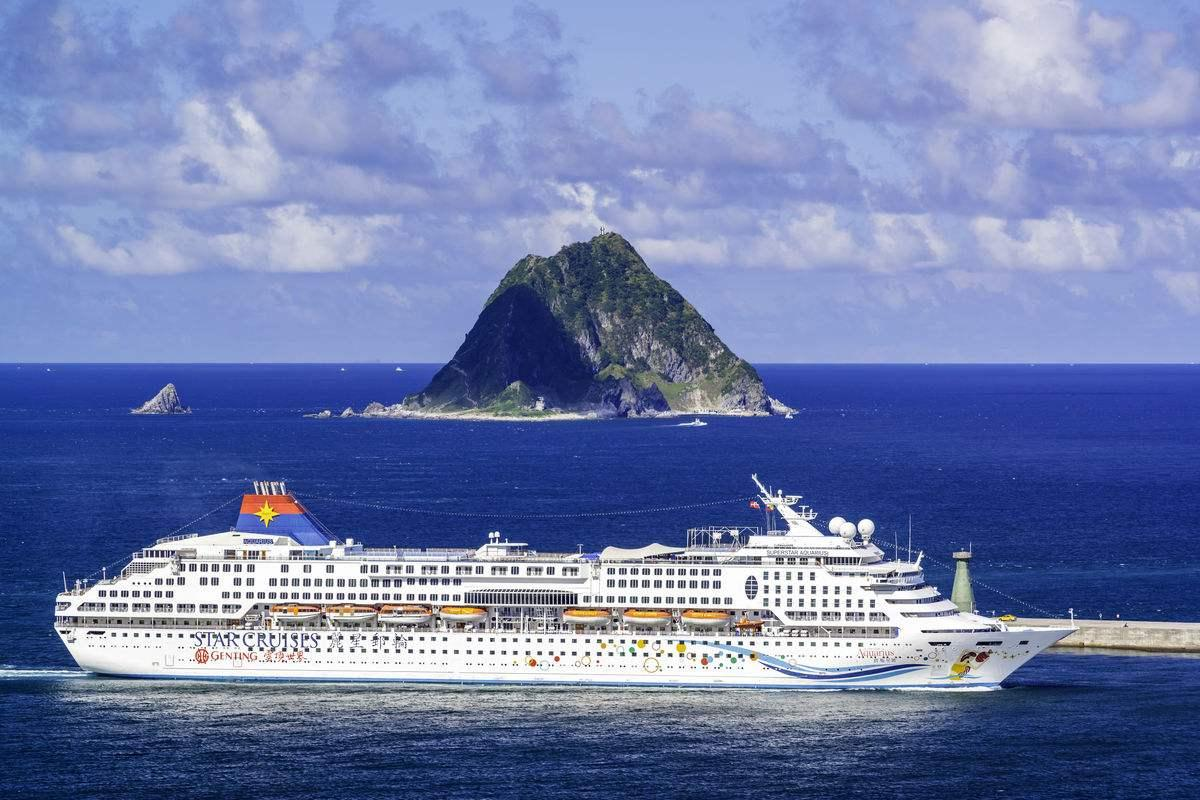youlun: (49, 456, 1077, 686)
